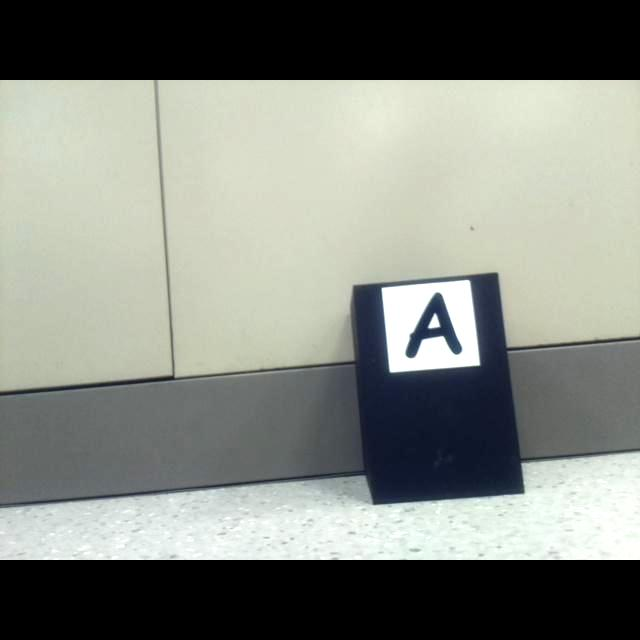A: (405, 292, 463, 359)
